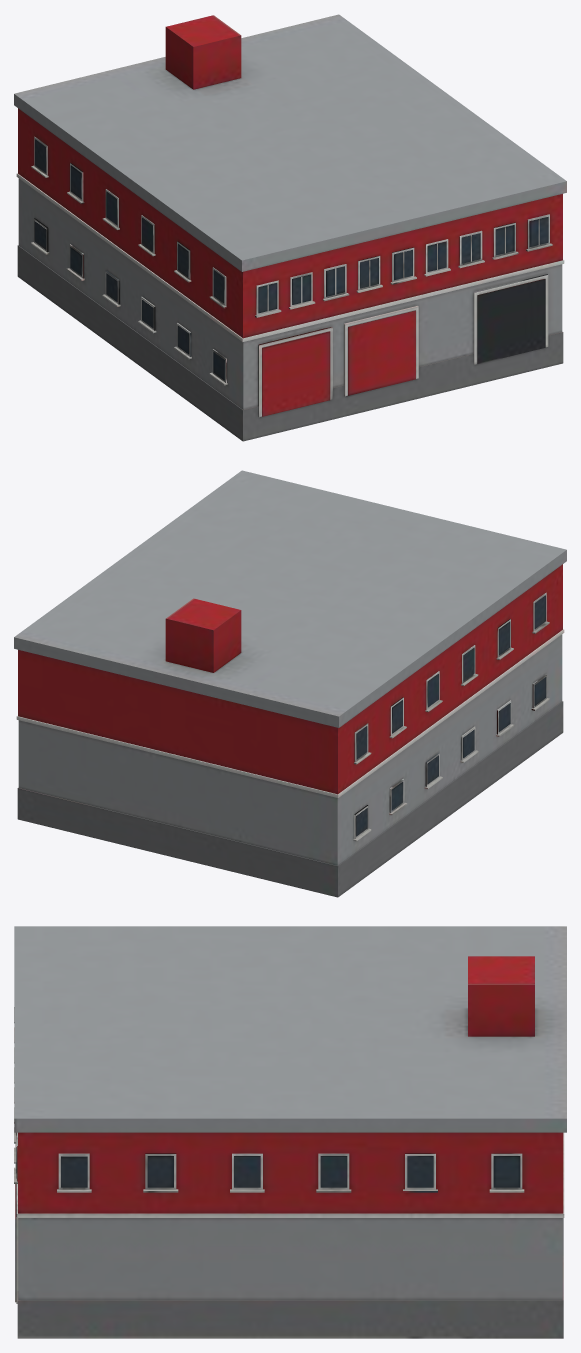
File: osp.glb
3 renders of one model, top to bottom at view 1: azimuth 30°, elevation 25°; view 2: azimuth 150°, elevation 25°; view 3: azimuth 270°, elevation 25°, orthographic. The views are drawn at different scales.
Visible parts, largest first — view 1: osp; view 2: osp; view 3: osp.
Part boxes in pixels (bbox=[...]): osp: bbox=[14, 14, 566, 441]; osp: bbox=[14, 470, 566, 897]; osp: bbox=[14, 926, 566, 1338].
Bounding box in the file's own units: 16.32 × 10.8 × 19.81.
Materials: 1 (1 with a texture image).
